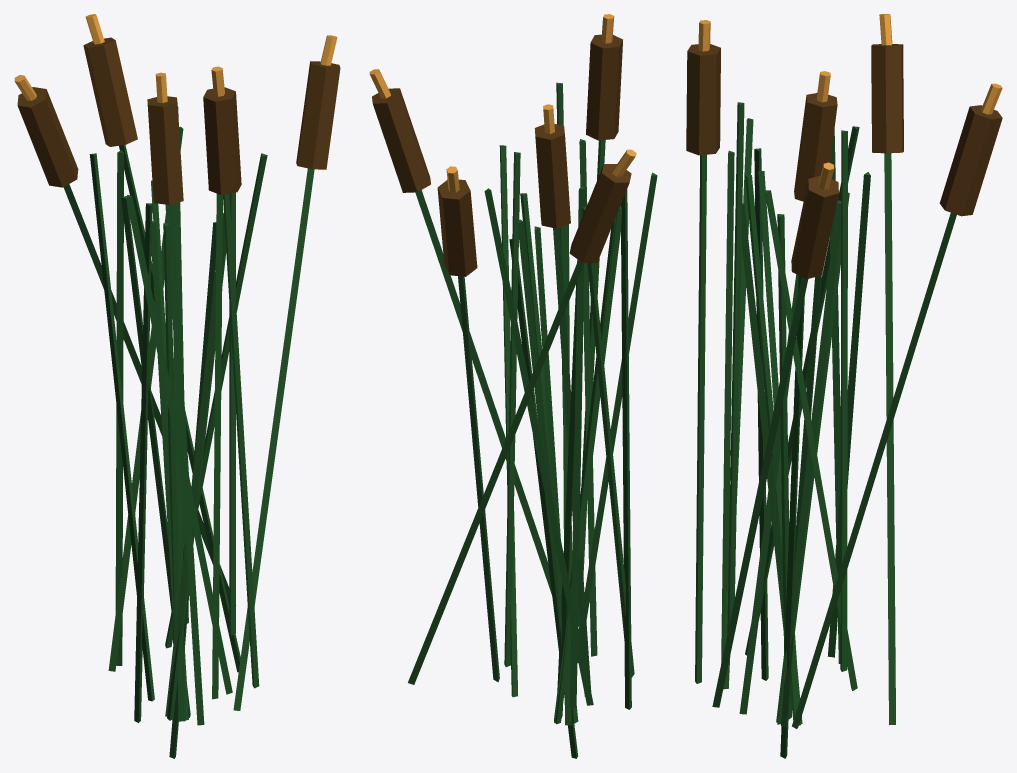
The model's file is hundinui.fbx.
The picture shows the model from 3 angles, left to right: view 1: azimuth 30°, elevation 25°; view 2: azimuth 150°, elevation 25°; view 3: azimuth 270°, elevation 25°; orthographic projection. The views are drawn at different scales.
Visible parts, largest first — view 1: Cylinder.017; view 2: Cylinder.017; view 3: Cylinder.017.
Part boxes in pixels (box(x1,y1,x2,y2)): Cylinder.017: box(14, 14, 340, 758); Cylinder.017: box(369, 14, 657, 758); Cylinder.017: box(686, 14, 1002, 758).
Size of the model in its own units: 145 by 337 by 131.
